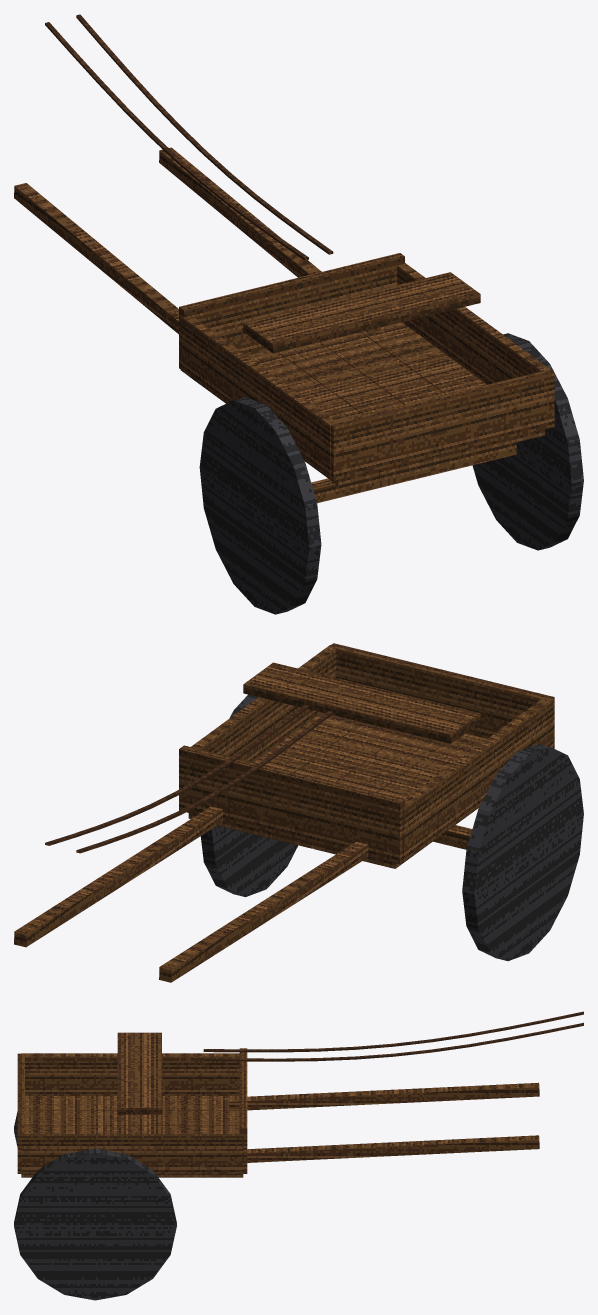
File: cart-retro.glb
The picture shows the model from 3 angles, top to bottom: view 1: azimuth 30°, elevation 25°; view 2: azimuth 150°, elevation 25°; view 3: azimuth 270°, elevation 25°; orthographic projection. The views are drawn at different scales.
Parts seen in each view (by area): view 1: cart; view 2: cart; view 3: cart.
Part boxes in pixels (x1=…): cart: x1=14, y1=14, x2=583, y2=614; cart: x1=14, y1=643, x2=583, y2=982; cart: x1=14, y1=1011, x2=583, y2=1300.
Size of the model in its own units: 1.59 by 1.74 by 3.85.
3 materials, 3 textured.
